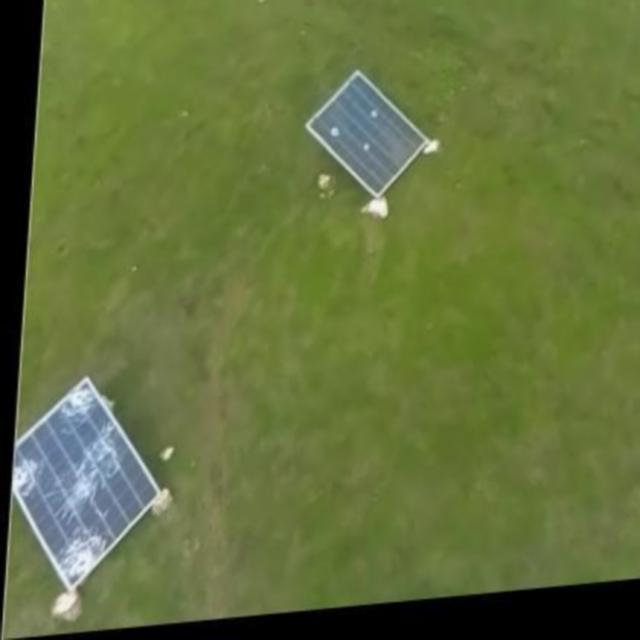cracked: (9, 378, 169, 590)
soiled: (303, 62, 430, 200)
